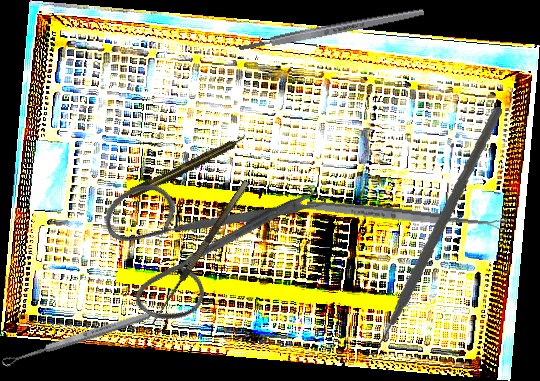Chopper: (331, 107, 523, 359)
Handpiece: (129, 132, 249, 199)
Hook Surgical: (148, 180, 258, 331)
Iris Scissors: (71, 99, 330, 362)
Scalpel Handle: (238, 6, 425, 54)
Surgical Spoon: (0, 310, 152, 368), (305, 198, 508, 233)
